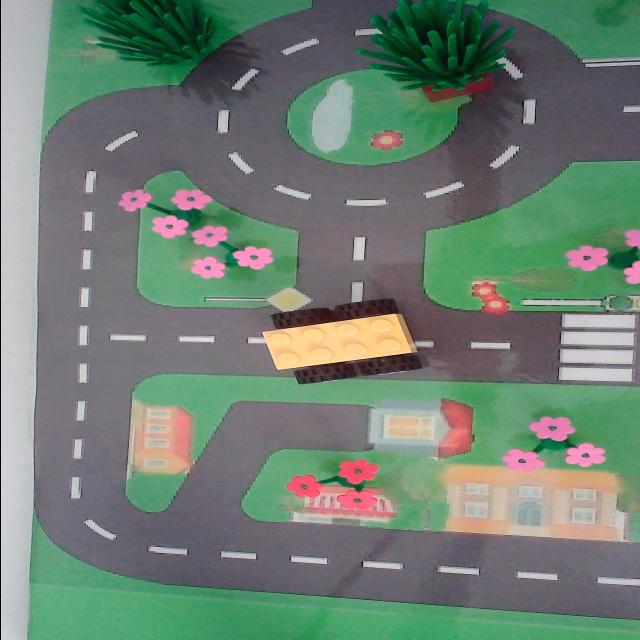Car: (248, 291, 442, 403)
Flower: (504, 400, 620, 482), (114, 174, 218, 244), (184, 220, 292, 284), (552, 225, 640, 292)
Tree: (342, 0, 527, 121), (74, 0, 250, 78)
